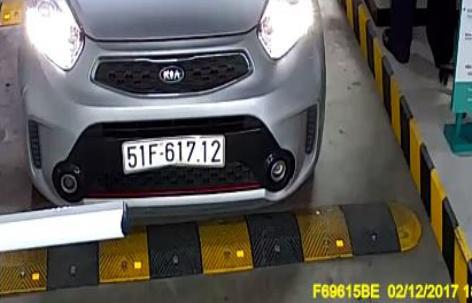License_Plate: (116, 131, 228, 178)
